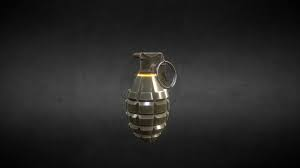bomb: (123, 50, 178, 144)
